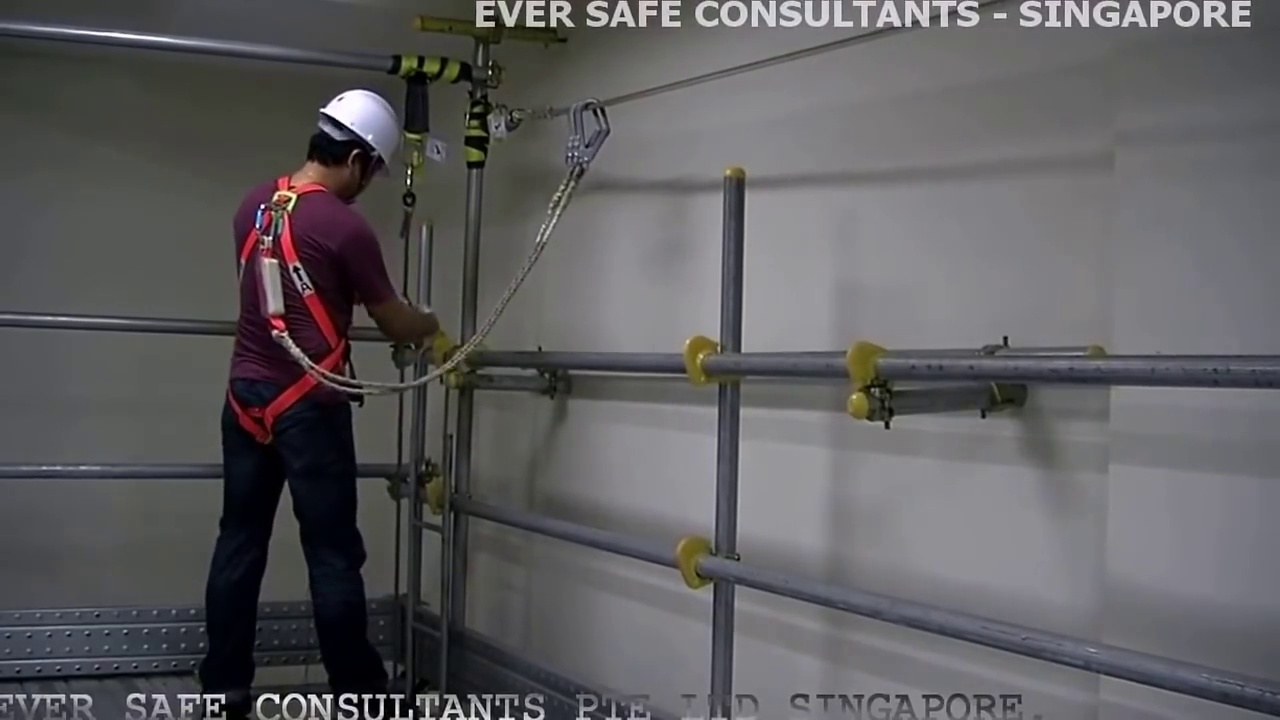harness: (238, 183, 333, 434)
helmet: (320, 80, 396, 164)
hook: (556, 97, 614, 173)
leash: (448, 199, 564, 381)
